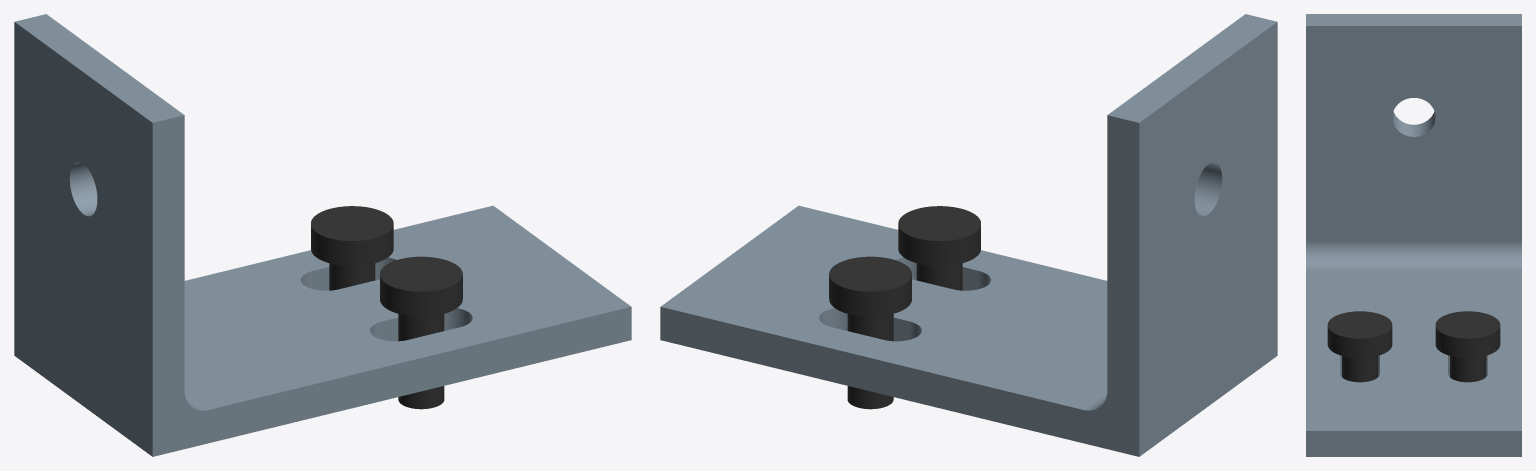
The model's file is bracket_assembly.glb.
The picture shows the model from 3 angles, left to right: view 1: azimuth 30°, elevation 25°; view 2: azimuth 150°, elevation 25°; view 3: azimuth 270°, elevation 25°; orthographic projection. The views are drawn at different scales.
Visible parts, largest first — view 1: bracket, screw_0, screw_1; view 2: bracket, screw_1, screw_0; view 3: bracket, screw_0, screw_1.
Part boxes in pixels (x1,y1,x2,y2): bracket: (14,14,631,456); screw_0: (380,256,462,409); screw_1: (311,206,393,290); bracket: (660,14,1277,456); screw_1: (829,256,911,409); screw_0: (898,206,980,290); bracket: (1306,14,1521,456); screw_0: (1327,311,1392,382); screw_1: (1435,311,1500,382).
Bounding box in the file's own units: 60 × 45 × 30.
